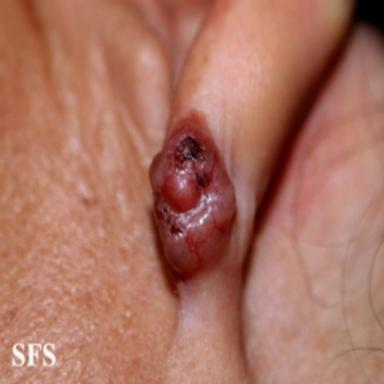basal-cell-carcinoma: (149, 107, 236, 278)
